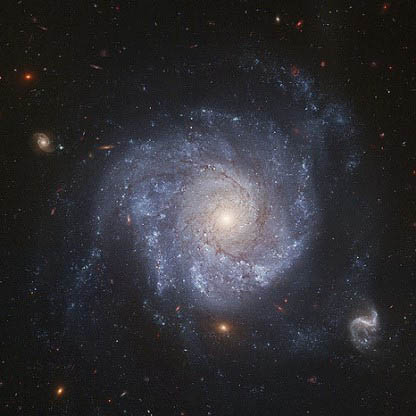NGC 1309: (22, 67, 387, 356)
